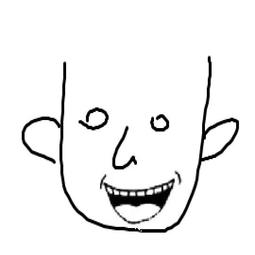ear: (17, 111, 67, 173), (198, 114, 252, 169)
empty_eye: (76, 102, 112, 135), (147, 111, 174, 137)
nose: (106, 125, 142, 172)
open_mouth: (96, 169, 182, 226)
